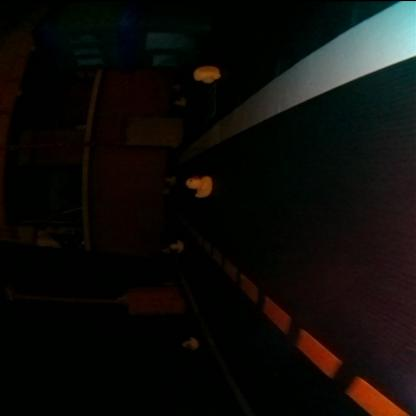Duckie: (184, 174, 212, 198), (194, 65, 220, 83), (180, 337, 198, 349), (170, 241, 184, 252), (174, 99, 184, 107), (166, 176, 174, 183), (160, 188, 168, 194), (172, 84, 178, 89)
